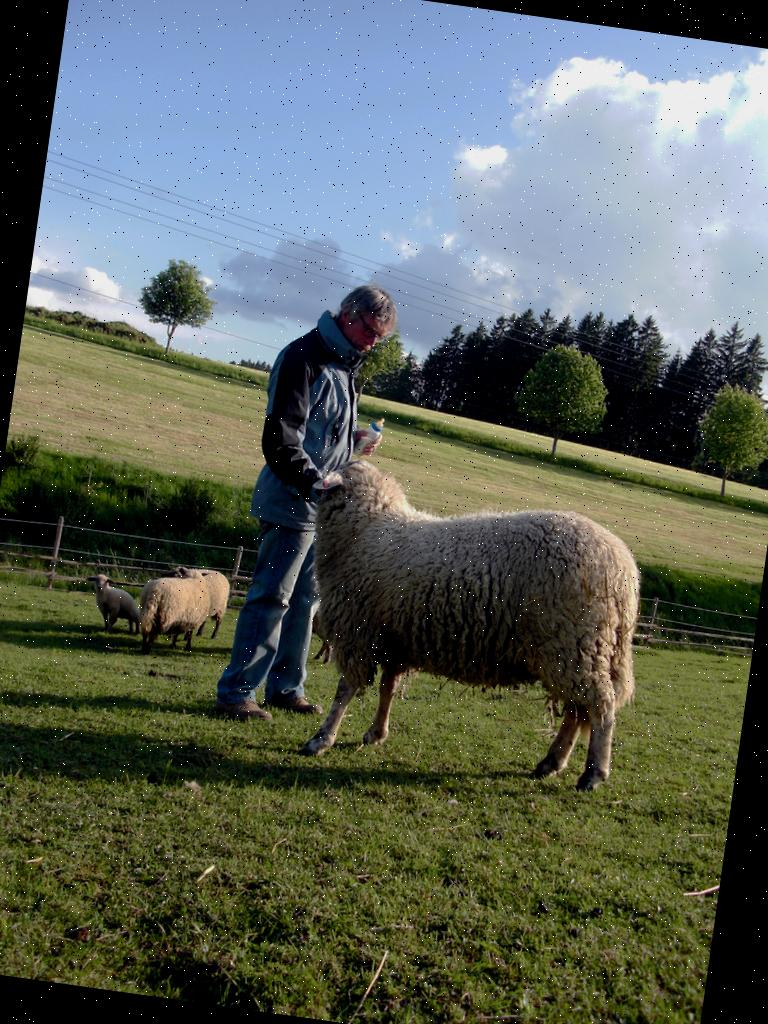Sheep: (282, 455, 662, 800), (127, 561, 214, 665), (165, 560, 235, 638), (83, 569, 143, 627)
